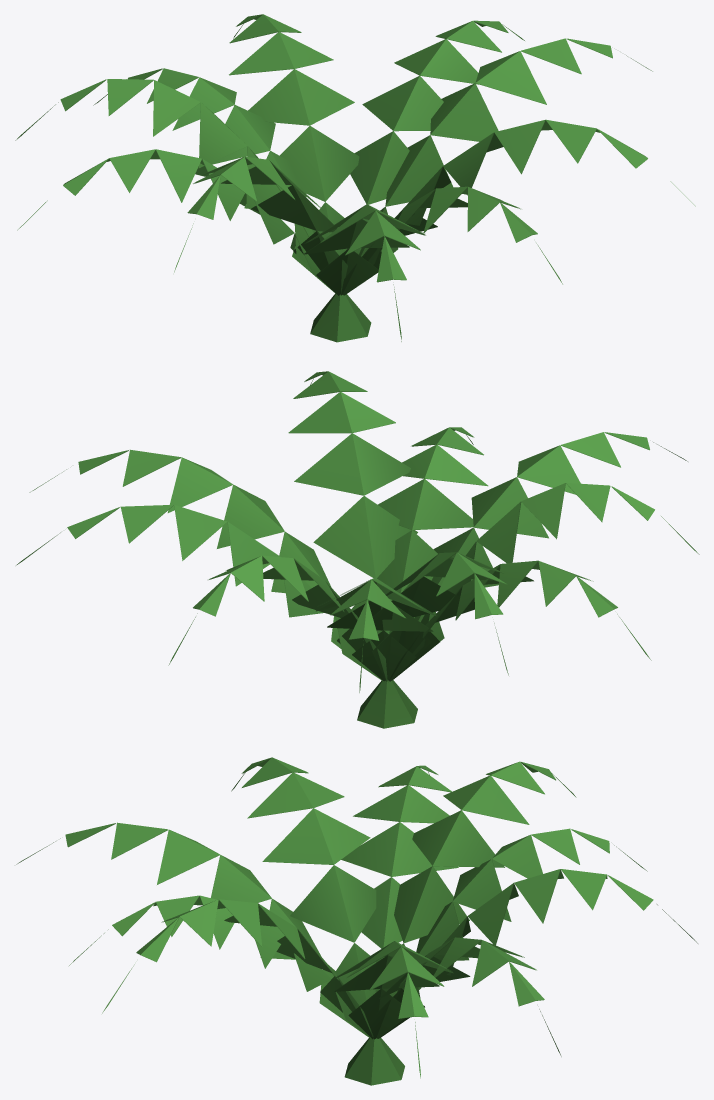
File: fern_wide.glb
3 views of the same model, one above another, from view 1: azimuth 30°, elevation 25°; view 2: azimuth 150°, elevation 25°; view 3: azimuth 270°, elevation 25° (orthographic).
Size of the model in its own units: 1.75 by 0.6258 by 1.66.
